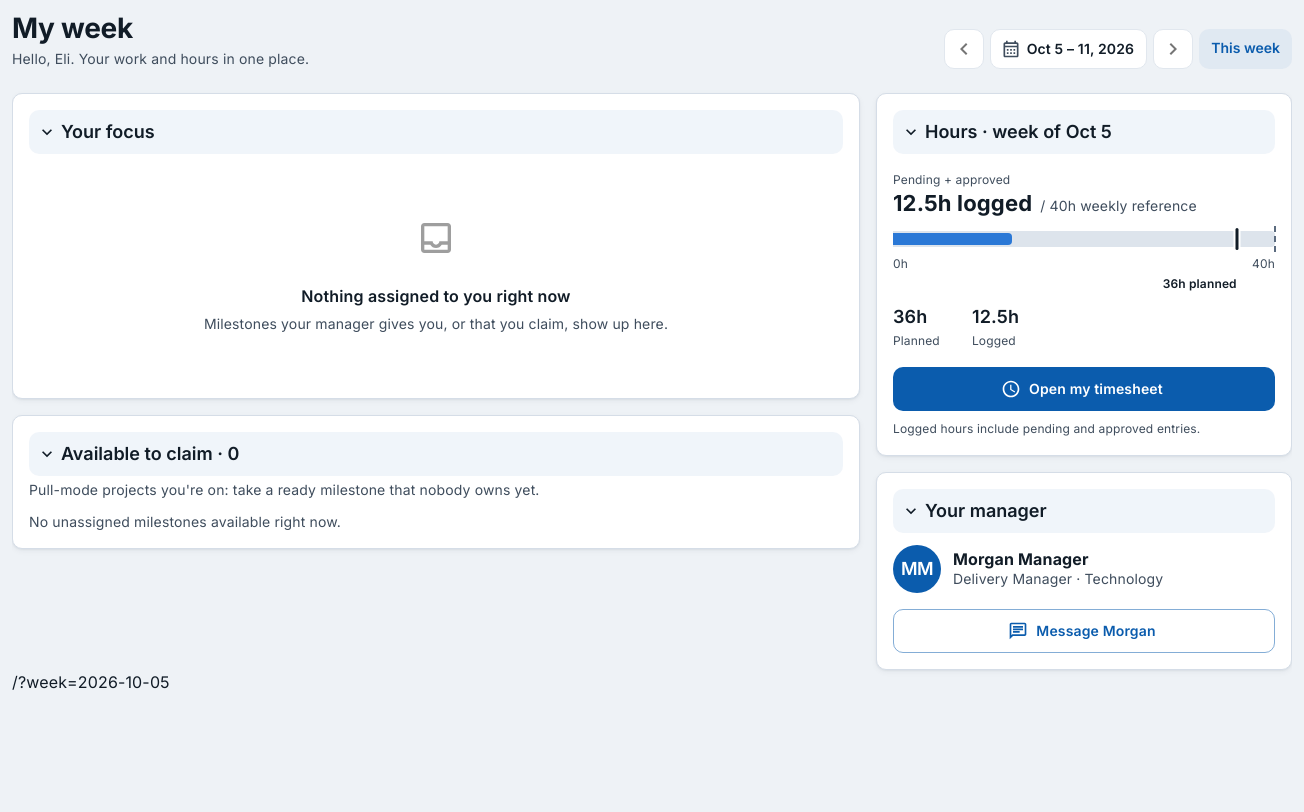
Scenario: header and week picker › This week drops ?week= and needs no sections request
Click the button "This week". click: (1246, 49)
box: [1199,29,1292,69]
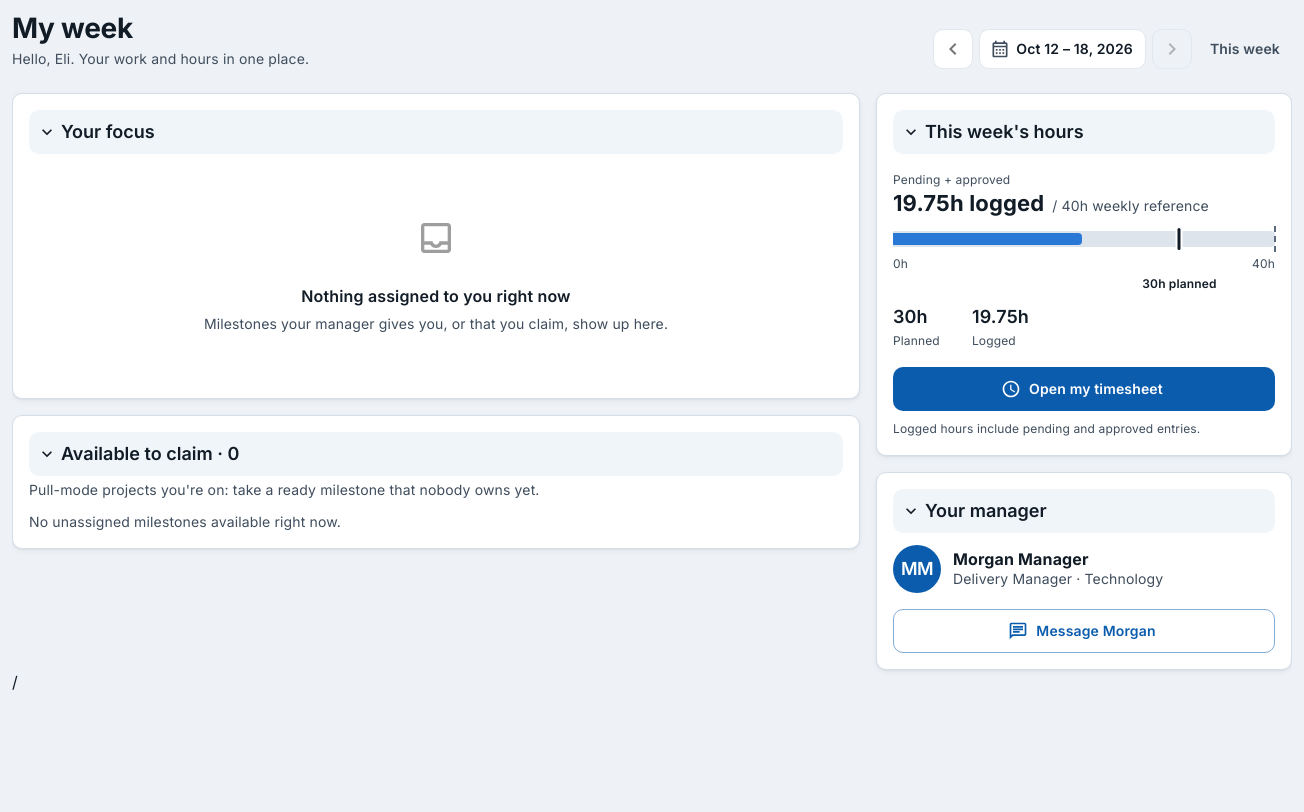
expect the text with test id "location" reads "/": met, box [12,672,18,692]
expect the text "19.75h logged" is shown: met, box [893,190,1044,216]
